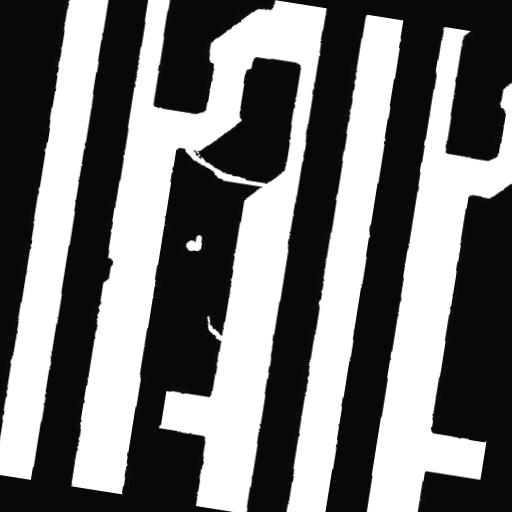mousebite: (194, 306, 234, 348)
open: (172, 138, 278, 196)
pin-hole: (176, 224, 211, 260)
short: (122, 367, 176, 445)
spur: (88, 248, 122, 290)
